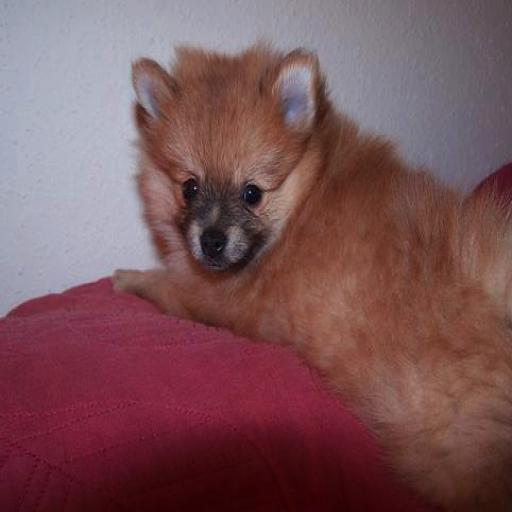dog_face: (131, 56, 326, 280)
